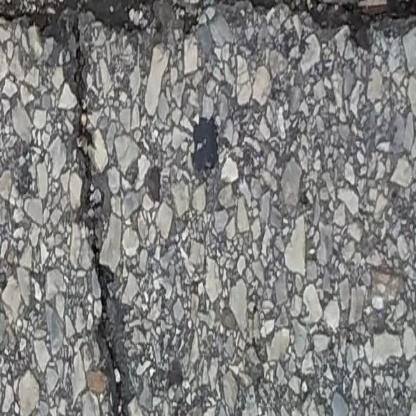Cracks: (0, 0, 162, 416), (239, 0, 416, 34)
